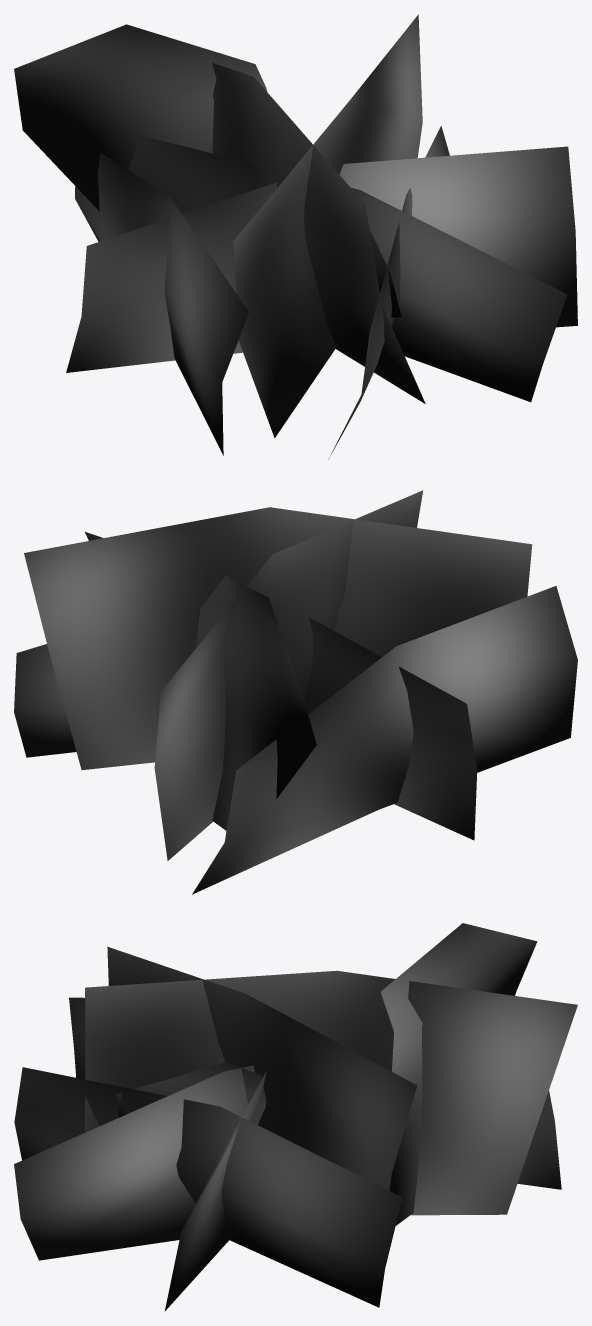
The model's file is SM_Grass_Short02.fbx.
The picture shows the model from 3 angles, top to bottom: view 1: azimuth 30°, elevation 25°; view 2: azimuth 150°, elevation 25°; view 3: azimuth 270°, elevation 25°; orthographic projection. The views are drawn at different scales.
Visible parts, largest first — view 1: SM_Grass_Short02; view 2: SM_Grass_Short02; view 3: SM_Grass_Short02.
Part boxes in pixels (<box>): SM_Grass_Short02: <box>14,14,577,457</box>; SM_Grass_Short02: <box>14,490,577,894</box>; SM_Grass_Short02: <box>14,923,577,1311</box>.
Size of the model in its own units: 97.61 by 111 by 55.53.
1 material, 1 textured.
